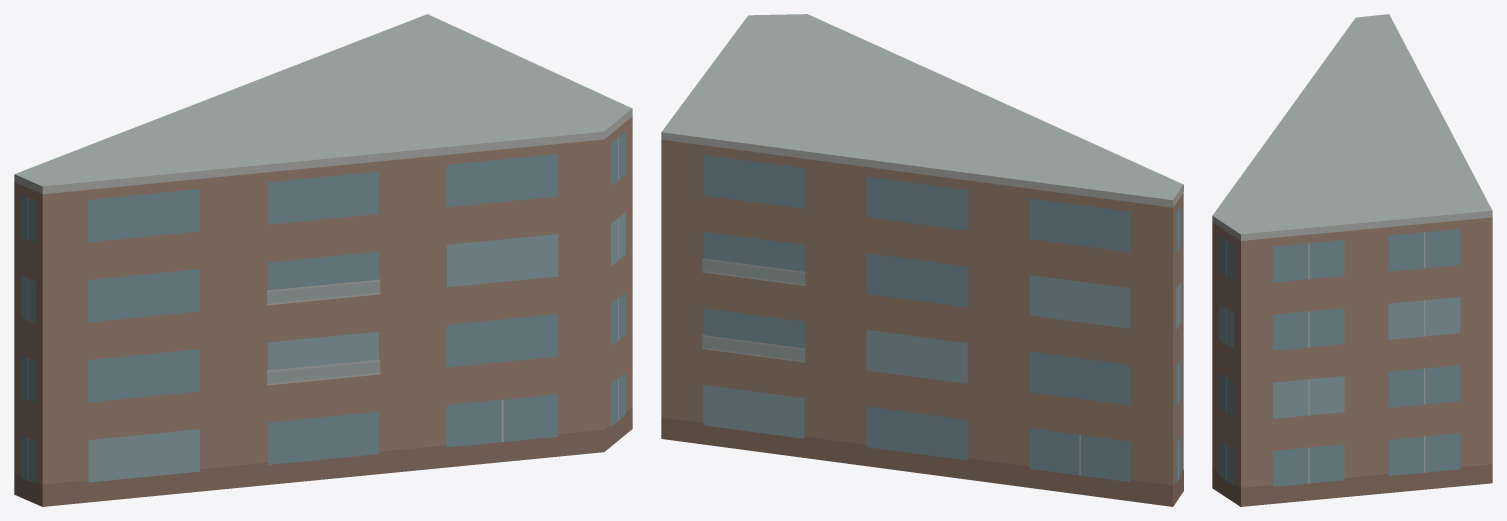
File: survey-upis-33017862.glb
3 renders of one model, left to right at view 1: azimuth 30°, elevation 25°; view 2: azimuth 150°, elevation 25°; view 3: azimuth 270°, elevation 25°, orthographic. The views are drawn at different scales.
Visible parts, largest first — view 1: survey-upis-33017862.tmp; view 2: survey-upis-33017862.tmp; view 3: survey-upis-33017862.tmp.
Part boxes in pixels (x1,y1,x2,y2): survey-upis-33017862.tmp: [14, 14, 632, 506]; survey-upis-33017862.tmp: [661, 14, 1183, 506]; survey-upis-33017862.tmp: [1212, 14, 1492, 506].
Bounding box in the file's own units: 17.44 × 10.05 × 9.38.
